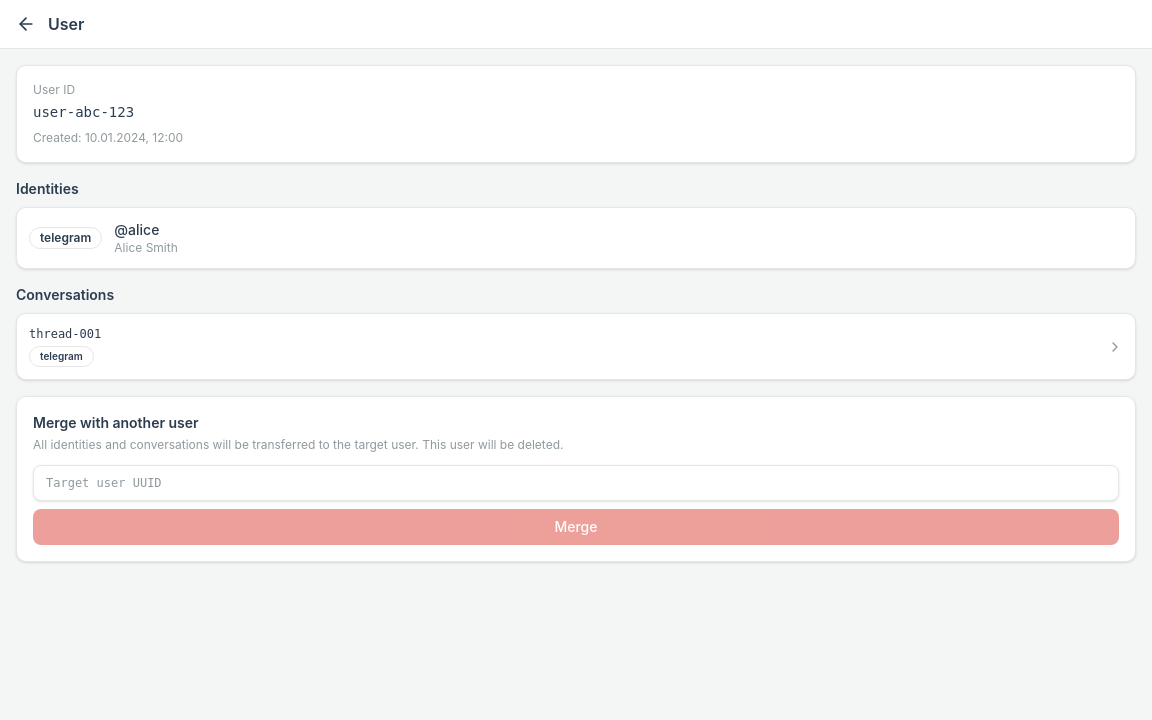
Test: MobileUserDetail › merge button enables when target id is typed
This screenshot has width=1152, height=720.
In the field with test id "merge-target-input": (576, 483) [33,465,1119,501], type "some-target-uuid"
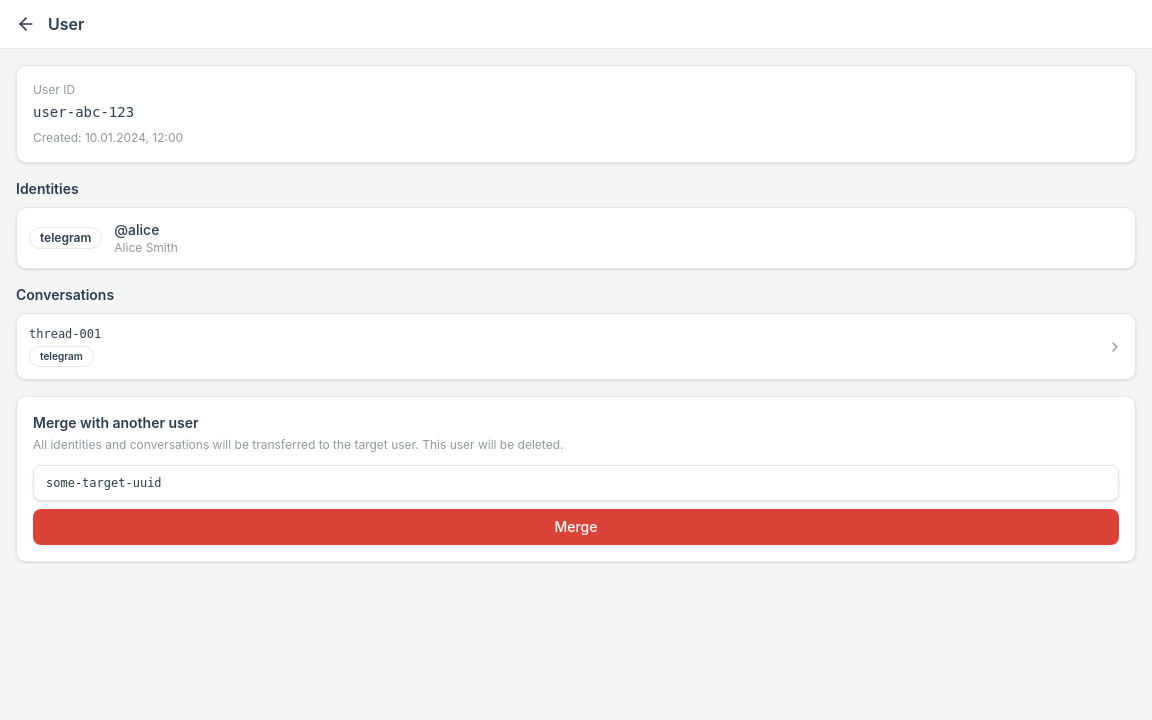
Expected: the button with test id "merge-button" is enabled, [33,509,1119,545]
